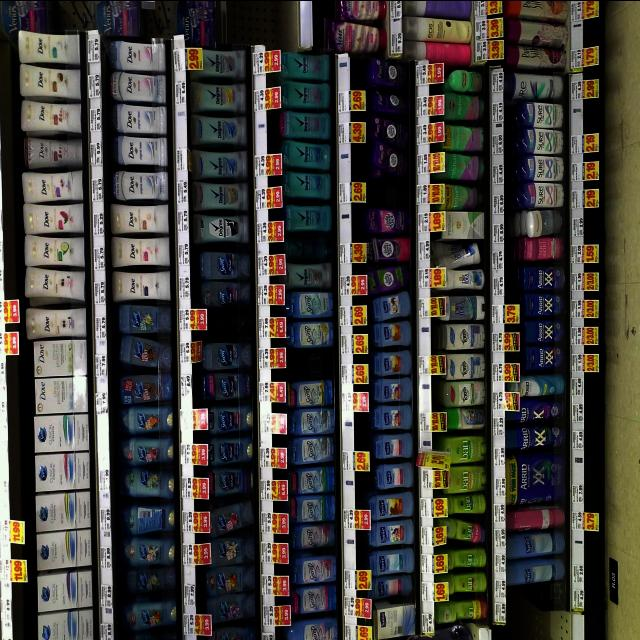empty_space: (229, 0, 303, 34), (513, 597, 563, 631), (373, 177, 411, 207), (294, 350, 330, 370)
